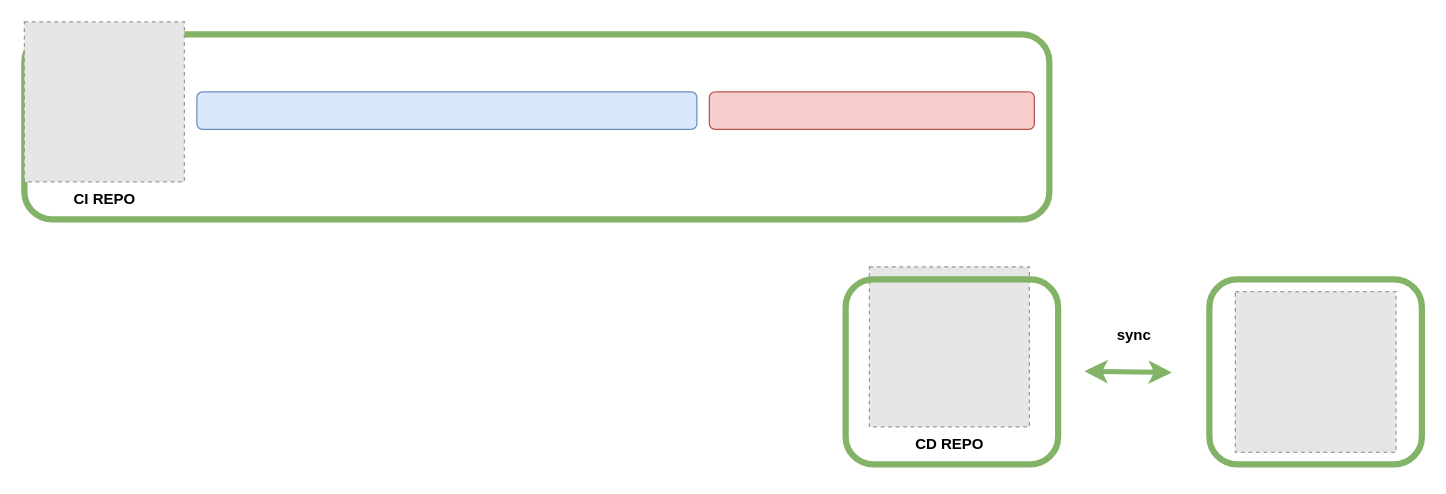
This 1446x494 diagram has some shape labels left out. Grey dashed boxes stand in for pictures. The centre of each missing label's shape, as x and y in pixels:
"CD jobs" belongs at pixel 871 110.
"CI jobs" belongs at pixel 446 110.
